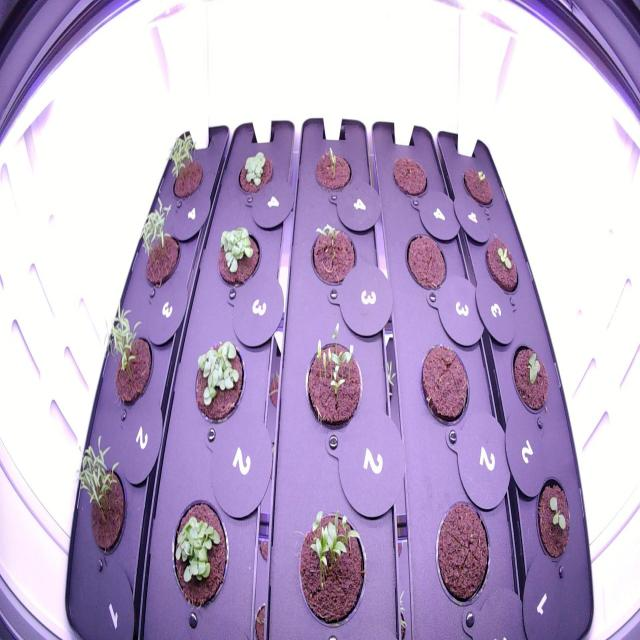germination: (292, 498, 372, 634), (162, 492, 233, 618), (70, 427, 132, 565), (299, 317, 366, 443), (100, 296, 157, 418), (188, 330, 250, 432), (136, 185, 184, 295), (528, 466, 576, 569), (305, 218, 361, 294), (506, 336, 556, 421), (212, 222, 266, 296), (162, 122, 206, 207), (231, 146, 278, 206), (309, 142, 357, 200), (454, 156, 498, 212)
pod: (429, 494, 496, 616), (413, 336, 474, 429), (398, 229, 451, 298), (389, 150, 432, 205)
young: (478, 233, 526, 300)
